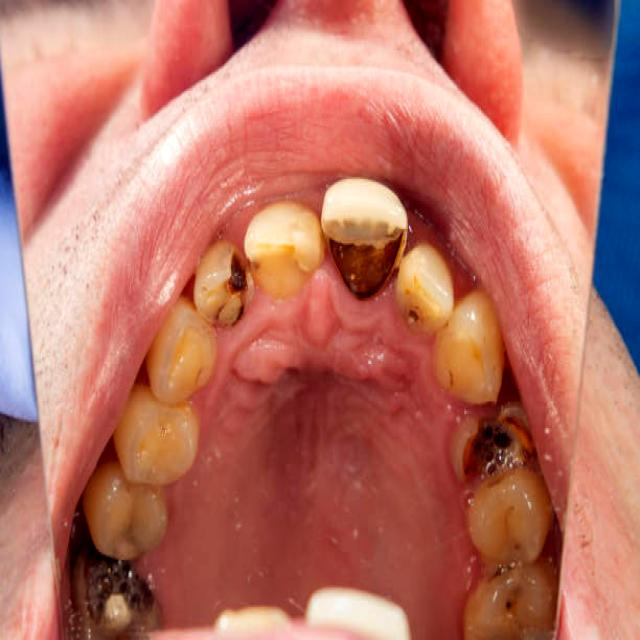calculus: (70, 527, 159, 638), (327, 231, 406, 298), (465, 416, 533, 472), (230, 256, 247, 290), (404, 296, 418, 326)
